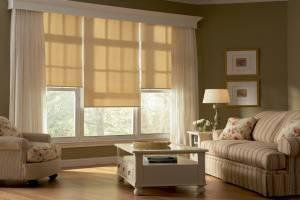window: (43, 84, 182, 141)
